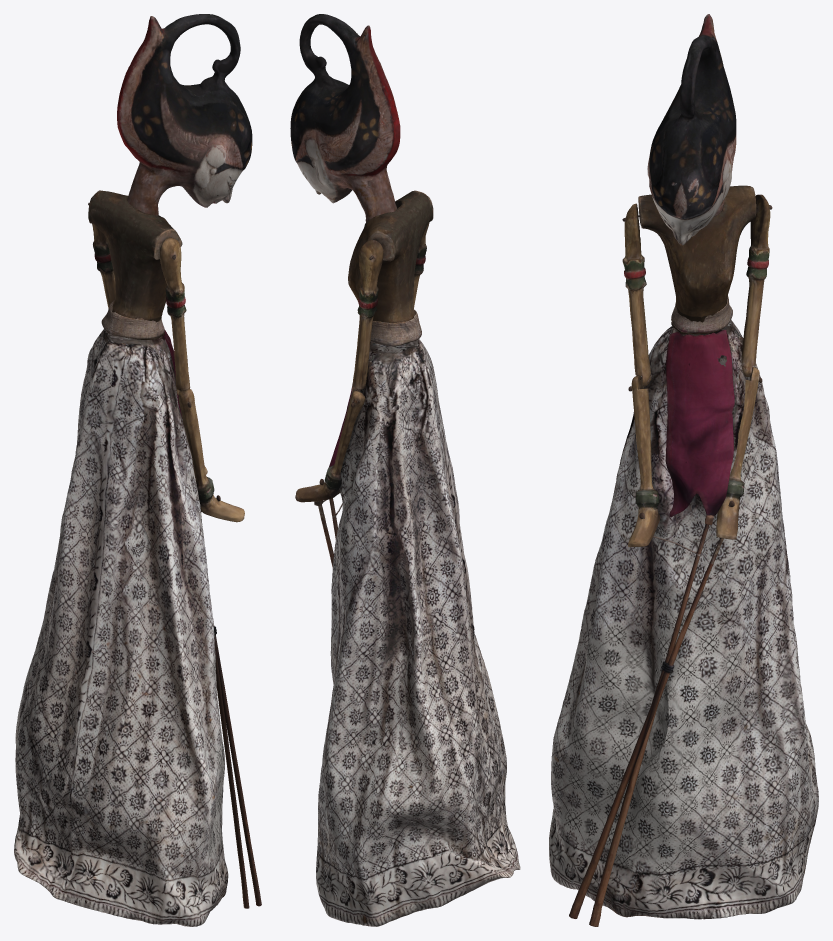
Rendered from wayang-parts.glb.
The picture shows the model from 3 angles, left to right: view 1: azimuth 30°, elevation 25°; view 2: azimuth 150°, elevation 25°; view 3: azimuth 270°, elevation 25°; orthographic projection. The views are drawn at different scales.
Parts seen in each view (by area): view 1: Lower, Head, Upper; view 2: Lower, Head, Upper; view 3: Lower, Upper, Head.
Part boxes in pixels (box(x1,y1,x2,y2)): Lower: box(14, 329, 228, 926); Head: box(101, 14, 252, 338); Upper: box(88, 190, 261, 908); Lower: box(316, 339, 520, 926); Head: box(290, 14, 421, 346); Upper: box(295, 190, 433, 567); Lower: box(549, 319, 818, 919); Upper: box(569, 185, 772, 926); Head: box(647, 14, 736, 332).
Size of the model in its own units: 20.47 by 76.15 by 20.88.
Materials: 3 (3 with a texture image).
